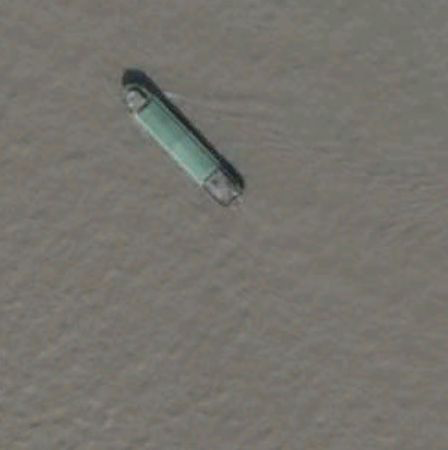boat: (118, 77, 245, 210)
